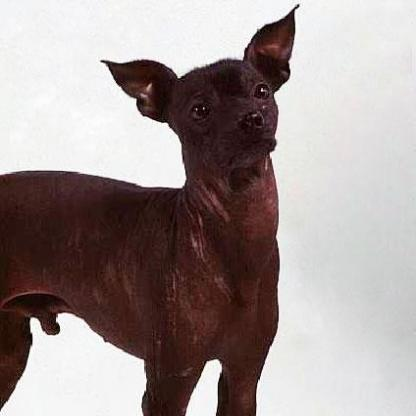Mexican_hairless: (0, 3, 297, 413)
